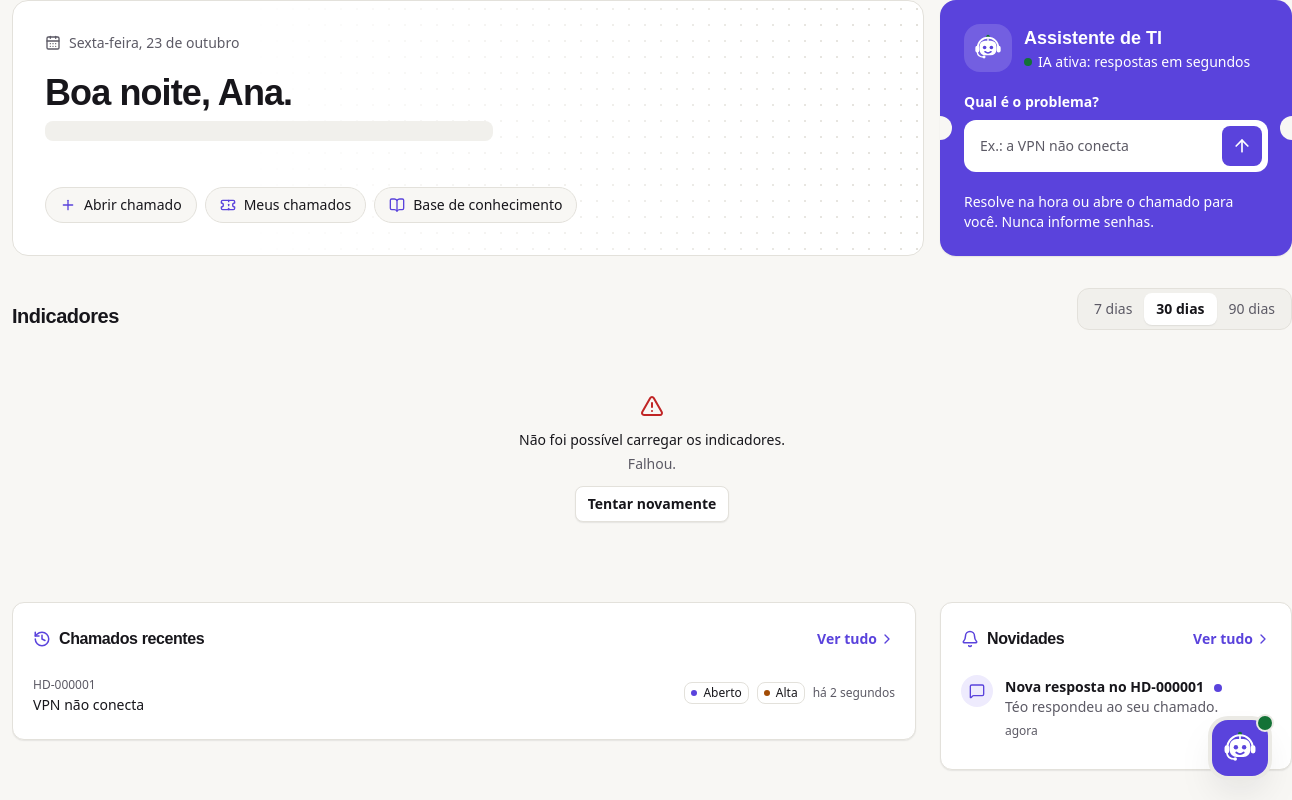
Test: DashboardPage › mostra erro com nova tentativa quando os indicadores falham
Expected: the text "Não foi possível carregar os indicadores." is shown, [519,430,785,450]
Click the button "Tentar novamente" at point(652, 504), box [575,486,729,522]
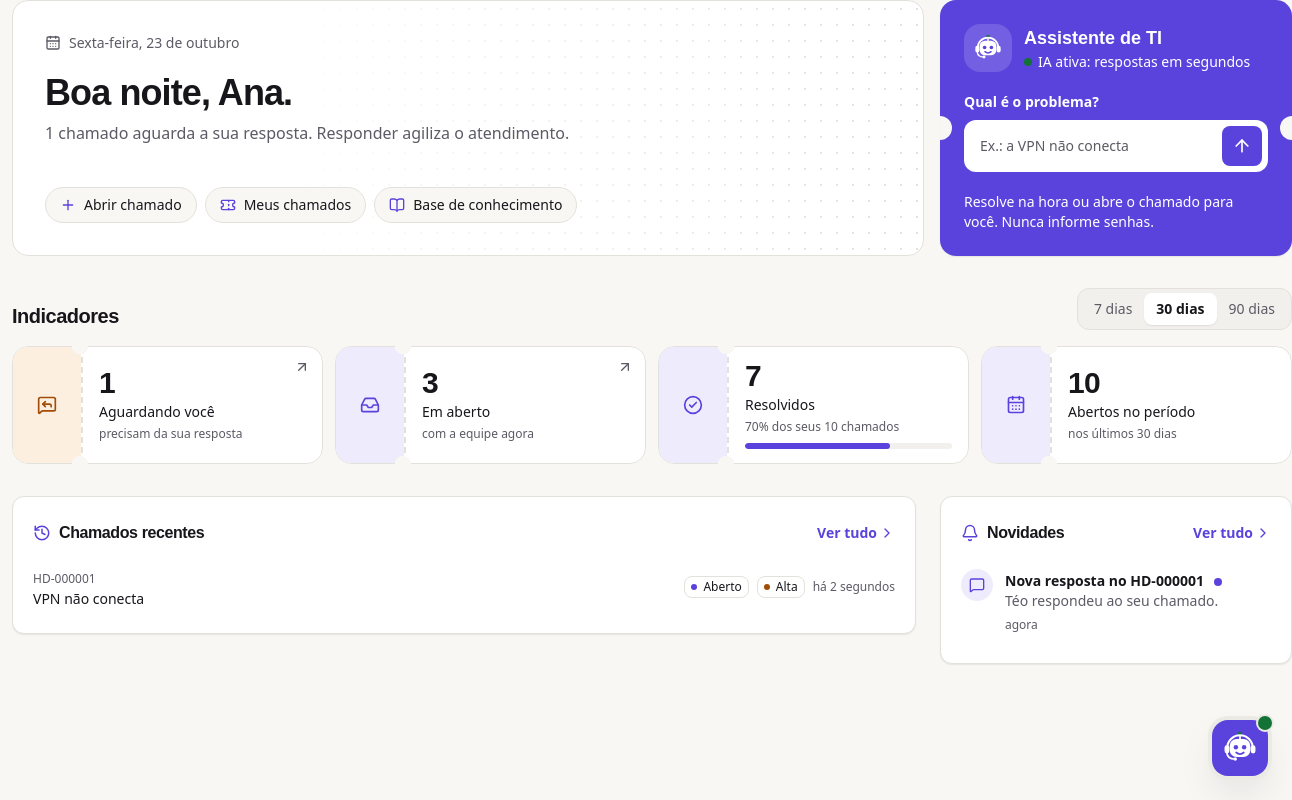
Expected: the element named "Indicadores" is shown, [12,346,1291,464]
